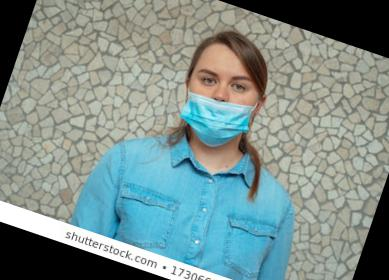mask_weared_incorrect: (177, 59, 260, 145)
